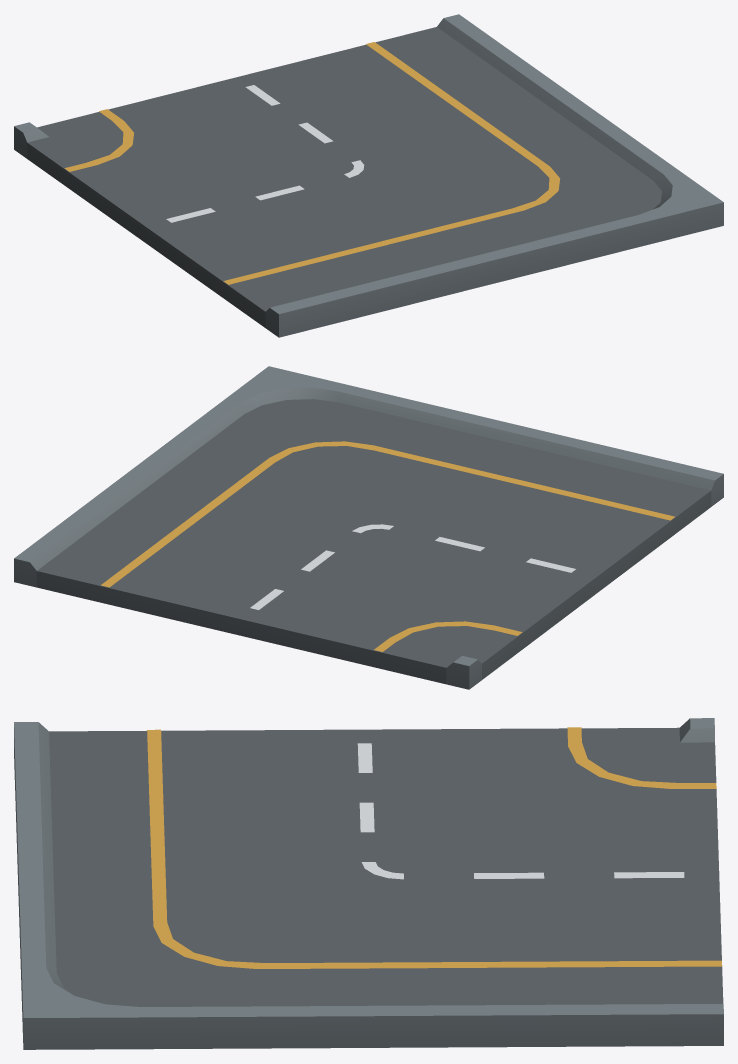
File: road_corner_lev3.glb
The picture shows the model from 3 angles, top to bottom: view 1: azimuth 30°, elevation 25°; view 2: azimuth 150°, elevation 25°; view 3: azimuth 270°, elevation 25°; orthographic projection. The views are drawn at different scales.
Visible parts, largest first — view 1: road_corner_lev3; view 2: road_corner_lev3; view 3: road_corner_lev3.
Boxes of the visible parts, x1,y1,x2,y2 form: road_corner_lev3: (14,14,723,337); road_corner_lev3: (14,366,723,689); road_corner_lev3: (14,718,723,1049).
Size of the model in its own units: 8.93 by 0.4406 by 8.93.
Materials: 1 (1 with a texture image).
